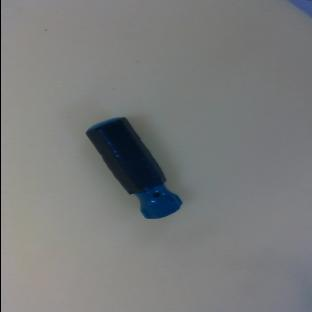part_2_bad: (83, 108, 184, 229)
